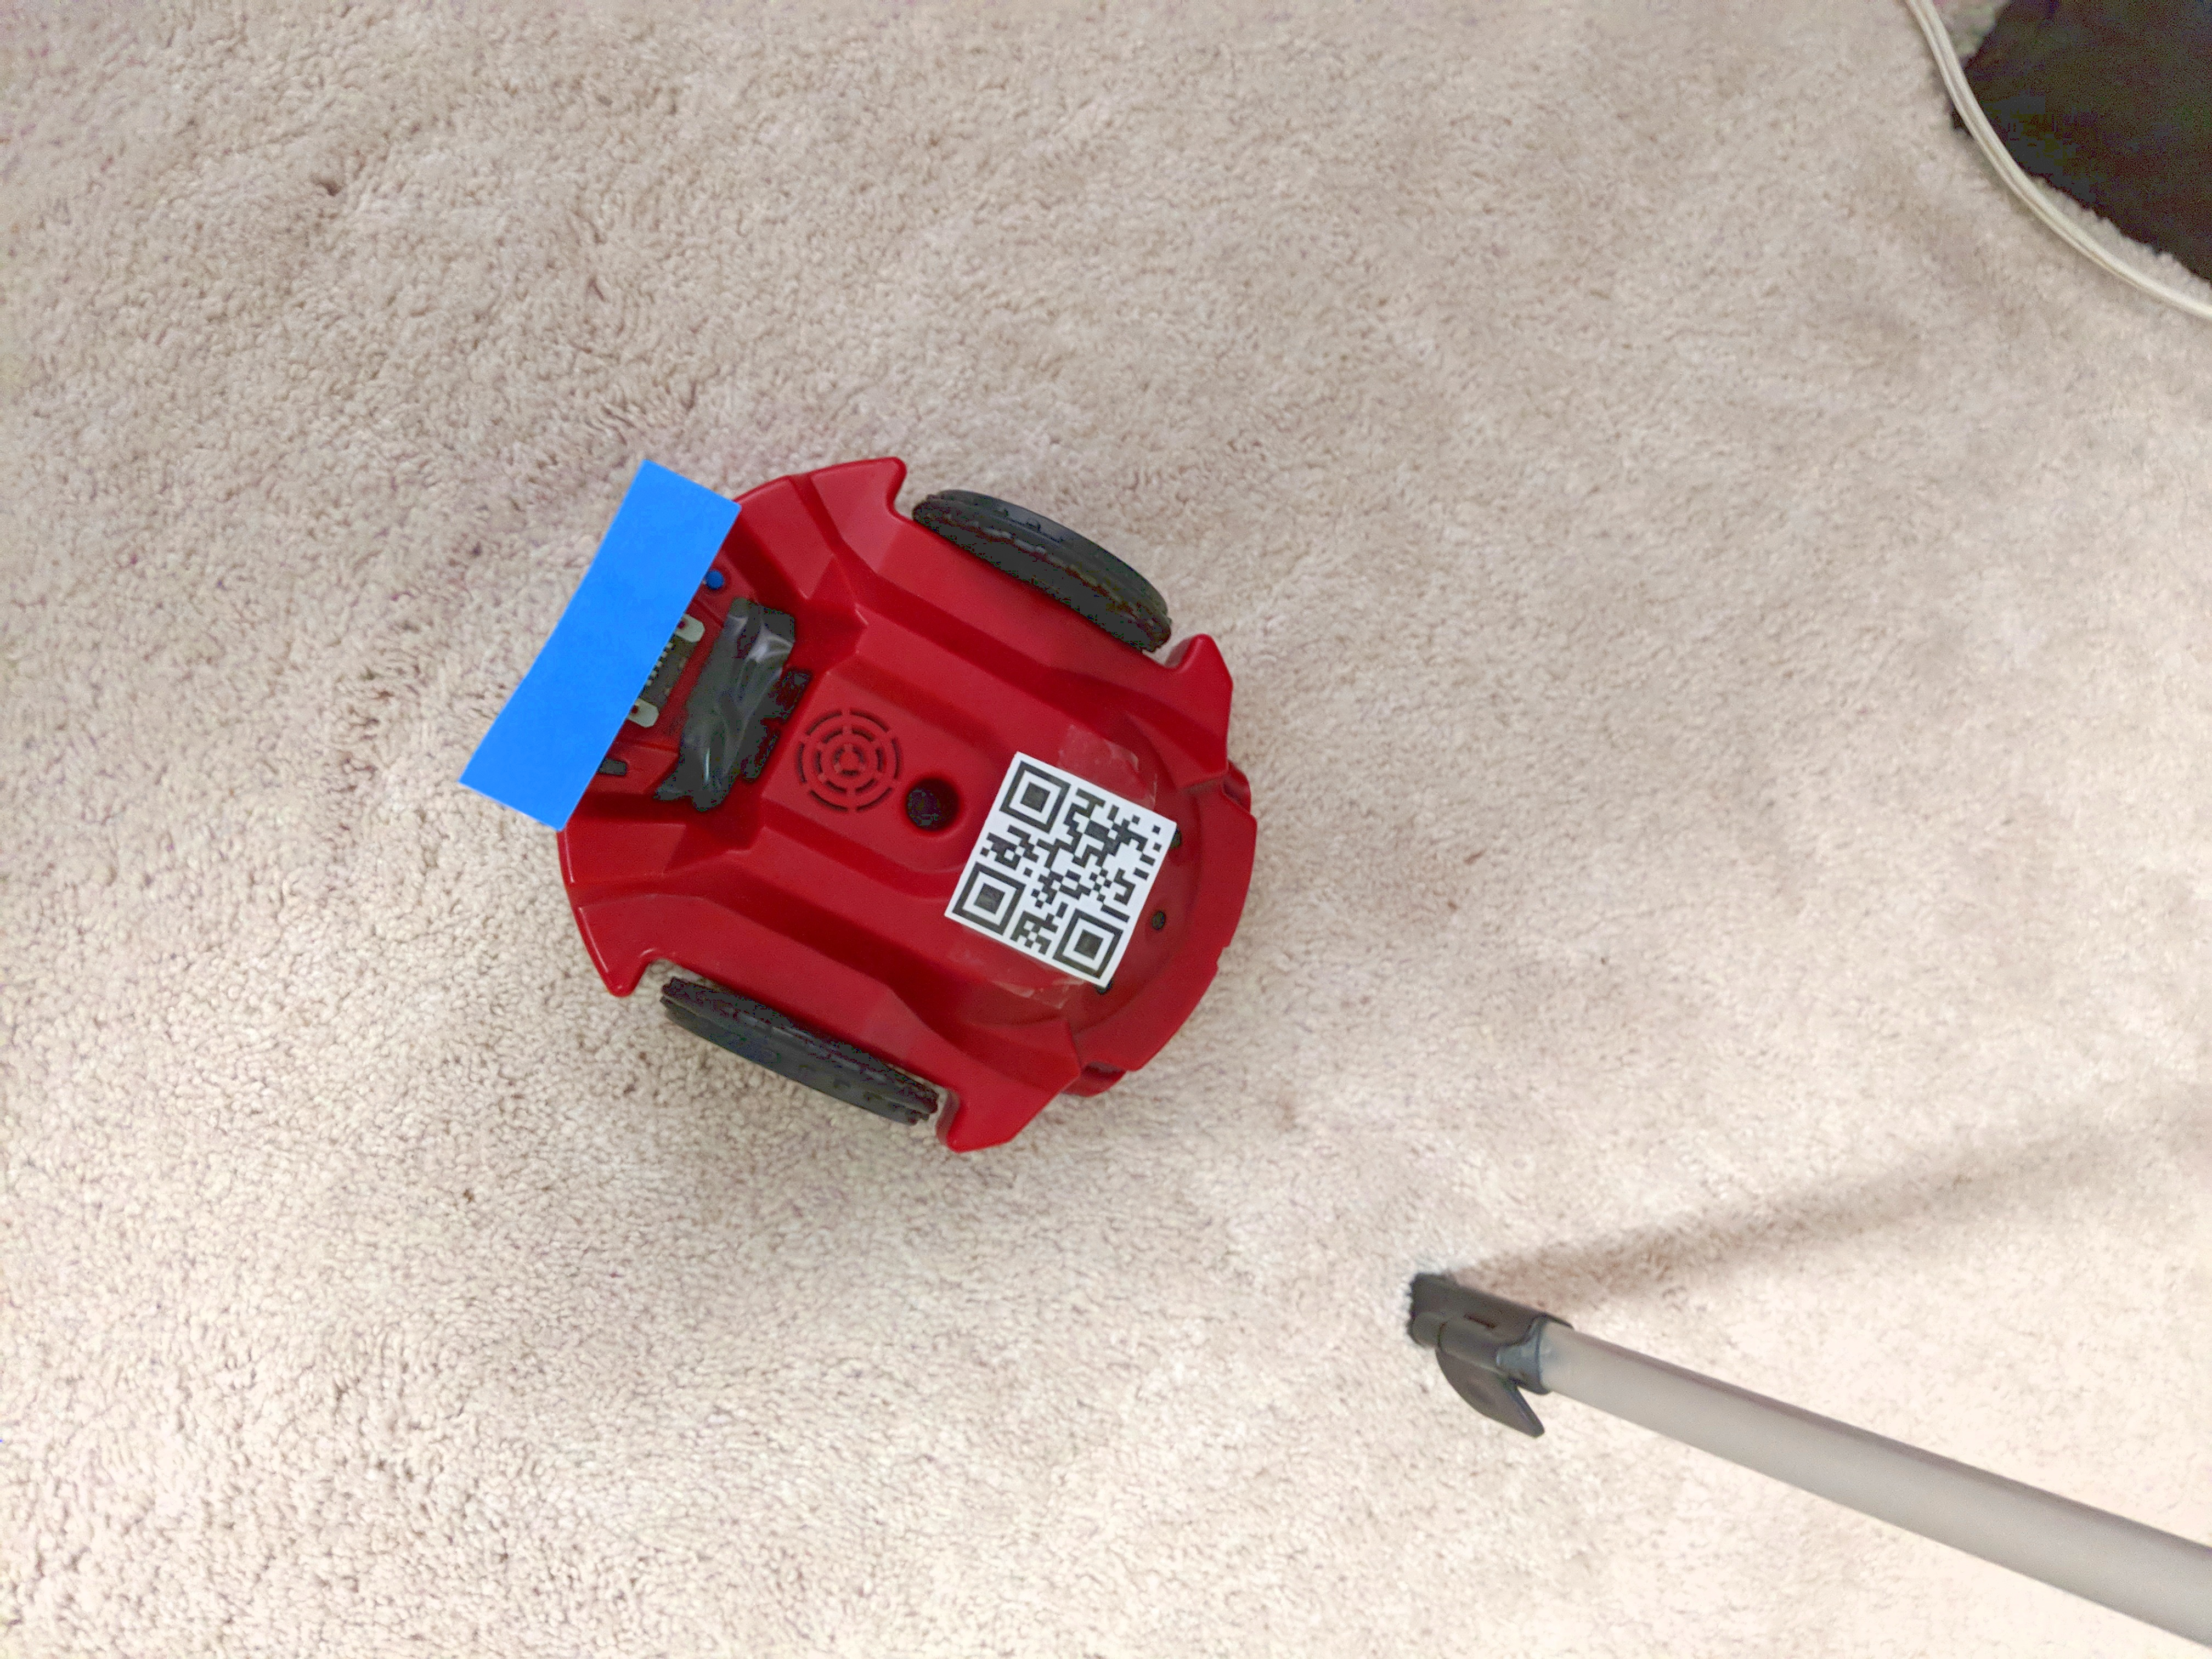board: (455, 451, 759, 852)
chassis: (458, 422, 1292, 1185)
